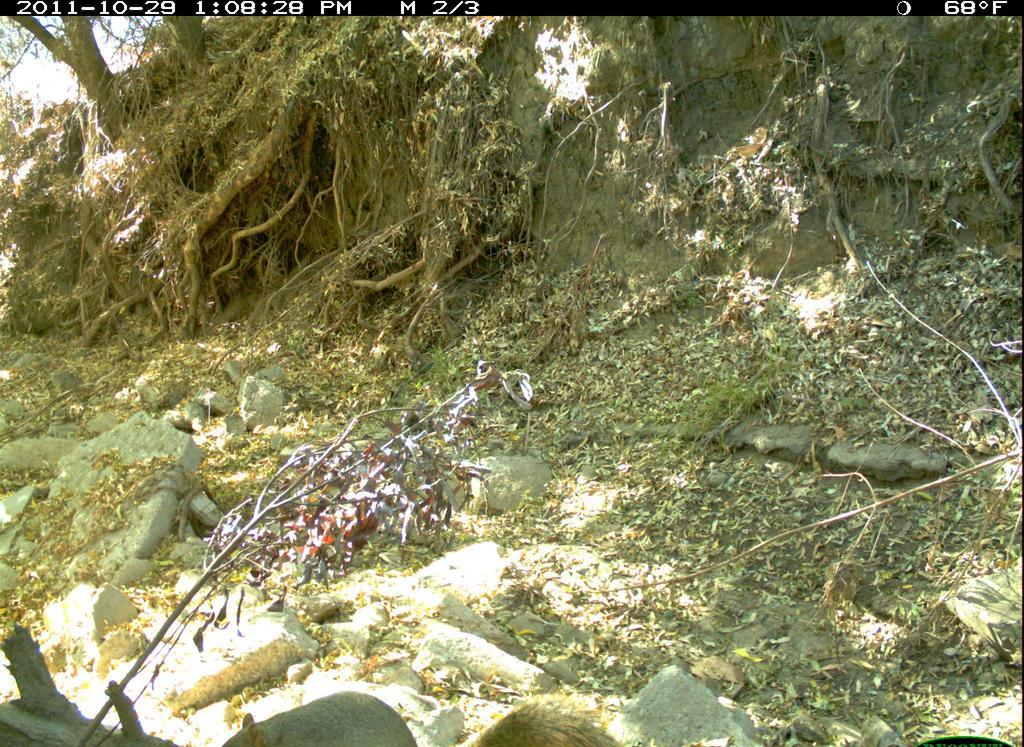squirrel: (205, 683, 615, 745)
